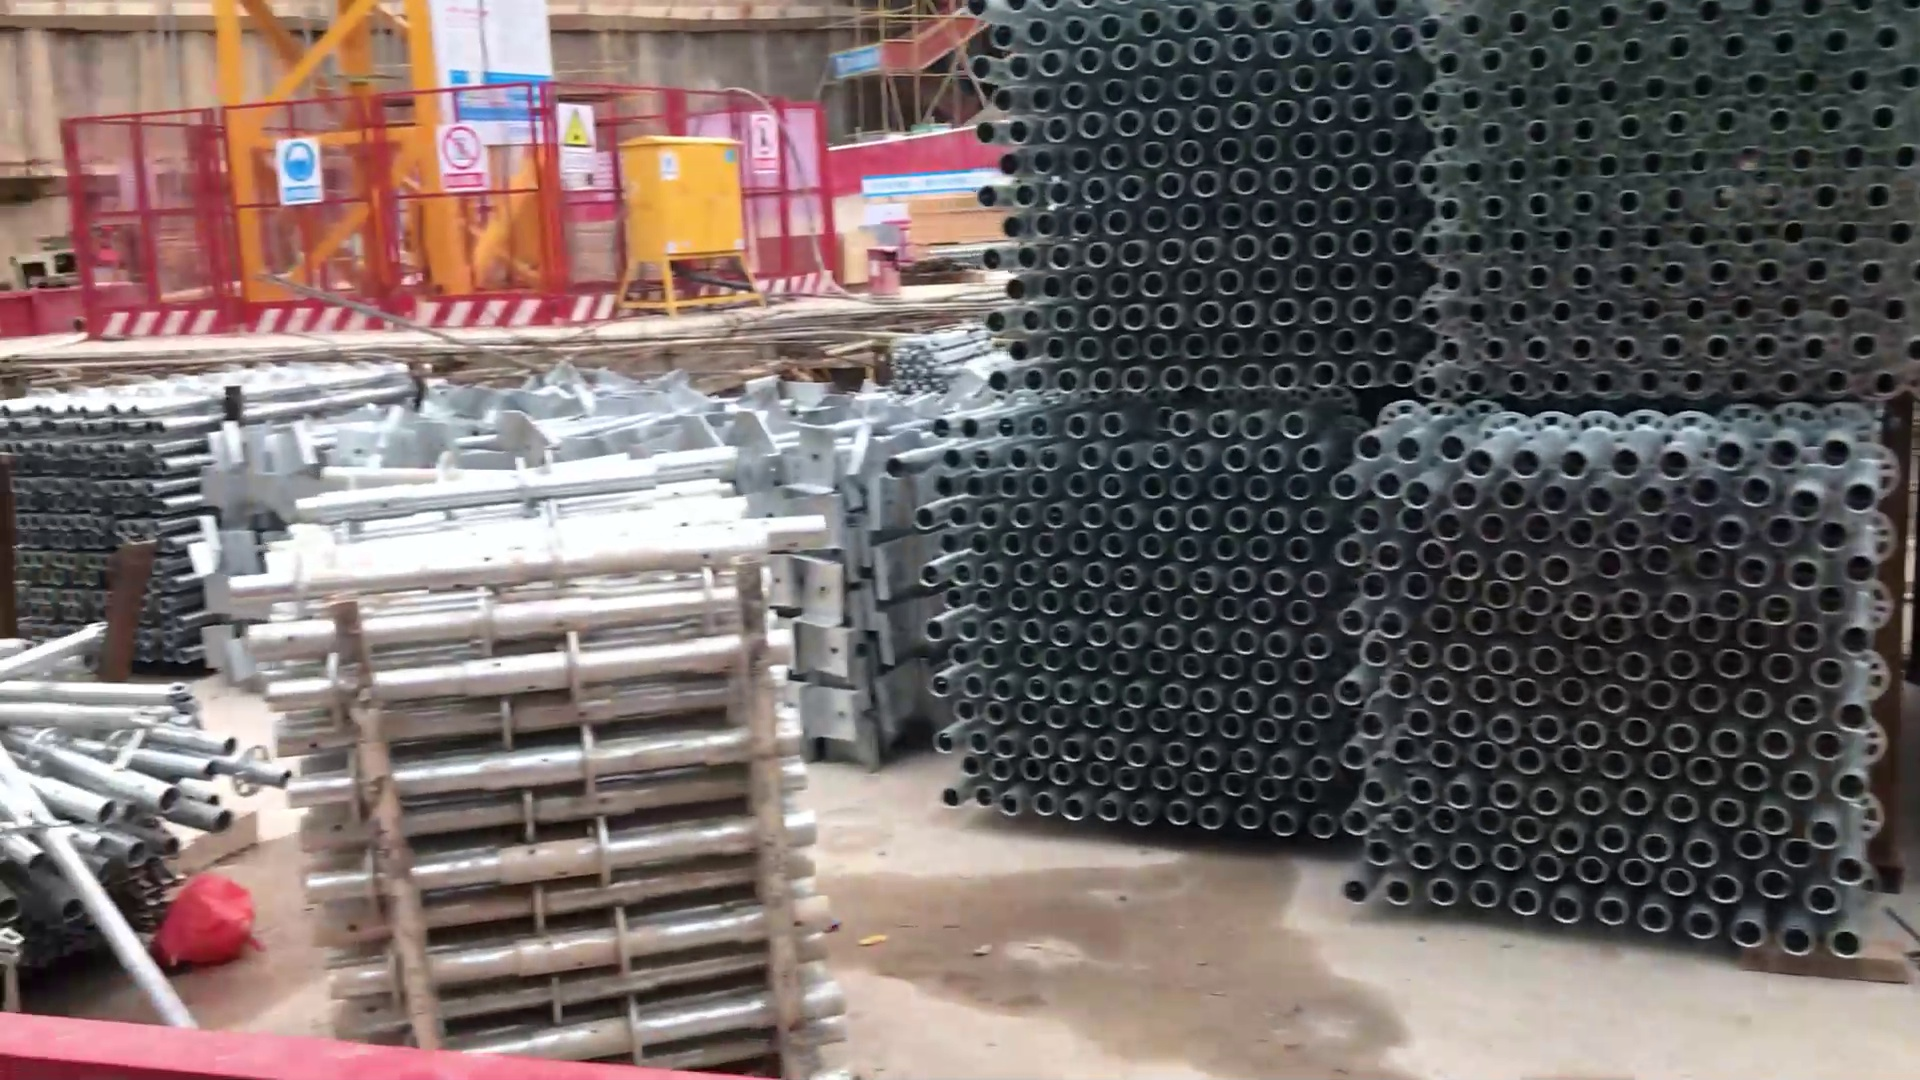ebox: (615, 127, 771, 326)
scaffold: (918, 1, 1913, 953), (256, 472, 891, 1080), (1, 365, 266, 657), (1, 653, 228, 990)
slogan: (434, 4, 578, 144), (429, 117, 498, 208), (274, 133, 328, 204), (551, 102, 600, 178), (745, 111, 785, 189), (828, 40, 885, 84)
wood: (907, 189, 1001, 248)
